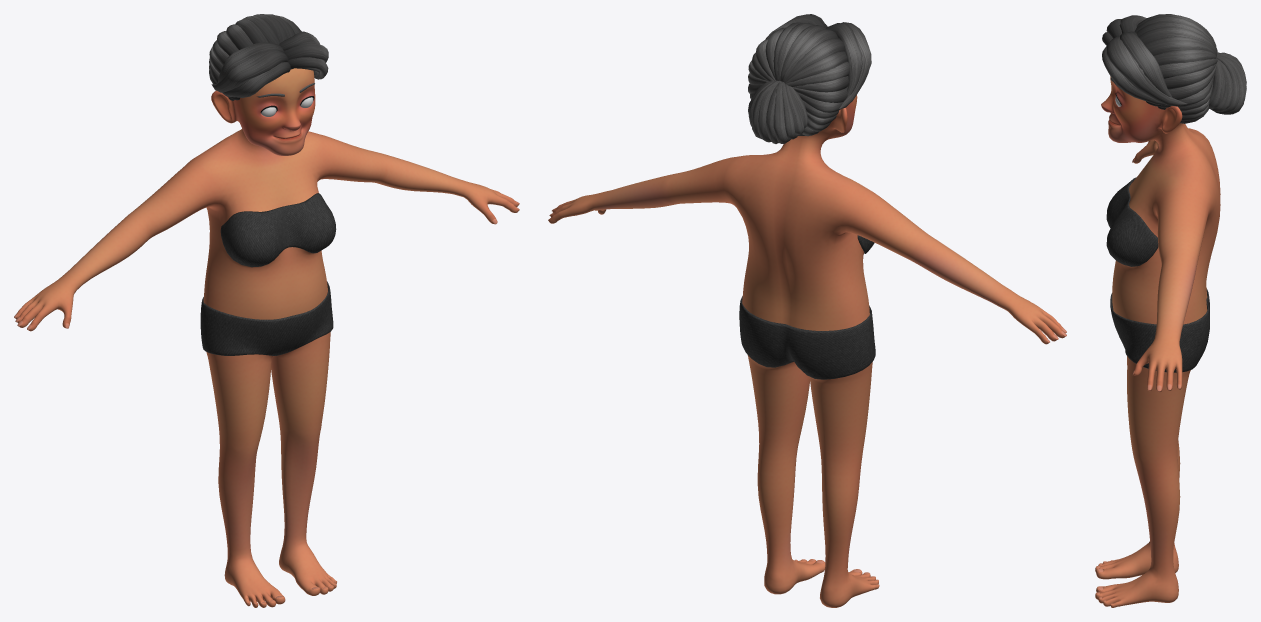
File: old_female.fbx
3 views of the same model, side by side, from view 1: azimuth 30°, elevation 25°; view 2: azimuth 150°, elevation 25°; view 3: azimuth 270°, elevation 25° (orthographic). The views are drawn at different scales.
Visible parts, largest first — view 1: GEO-body, GEO-underwear, GEO-hair; view 2: GEO-body, GEO-hair, GEO-underwear; view 3: GEO-body, GEO-hair, GEO-underwear.
Part boxes in pixels (<box>): GEO-body: <box>14,68,519,607</box>; GEO-underwear: <box>200,193,336,355</box>; GEO-hair: <box>209,14,328,100</box>; GEO-body: <box>548,95,1066,607</box>; GEO-hair: <box>748,14,871,143</box>; GEO-underwear: <box>739,235,875,379</box>; GEO-body: <box>1095,76,1220,607</box>; GEO-hair: <box>1102,14,1246,123</box>; GEO-underwear: <box>1106,177,1209,372</box>.
Size of the model in its own units: 154 by 164 by 39.59.
